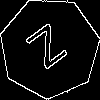Z: (24, 23, 75, 78)
